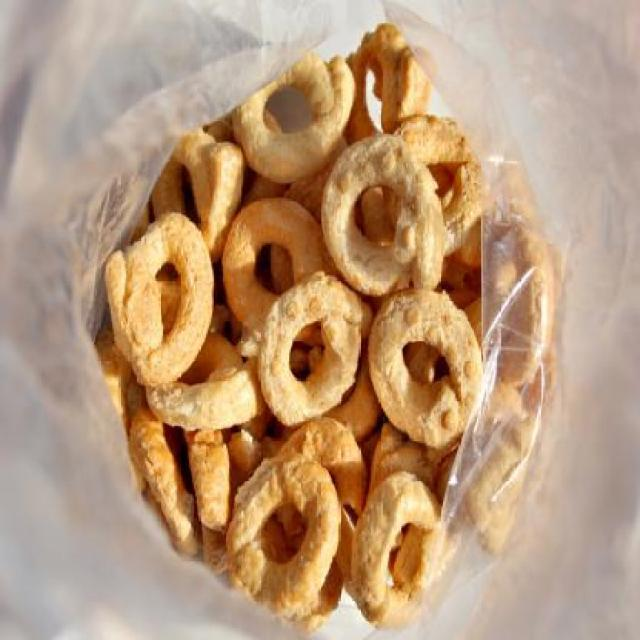Taralli: (123, 45, 488, 593)
